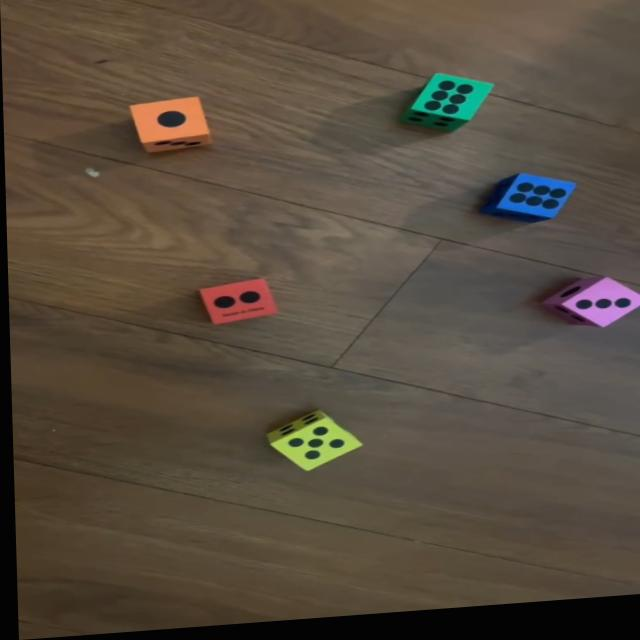cube: (395, 76, 493, 141), (478, 178, 580, 234), (194, 279, 274, 330)
